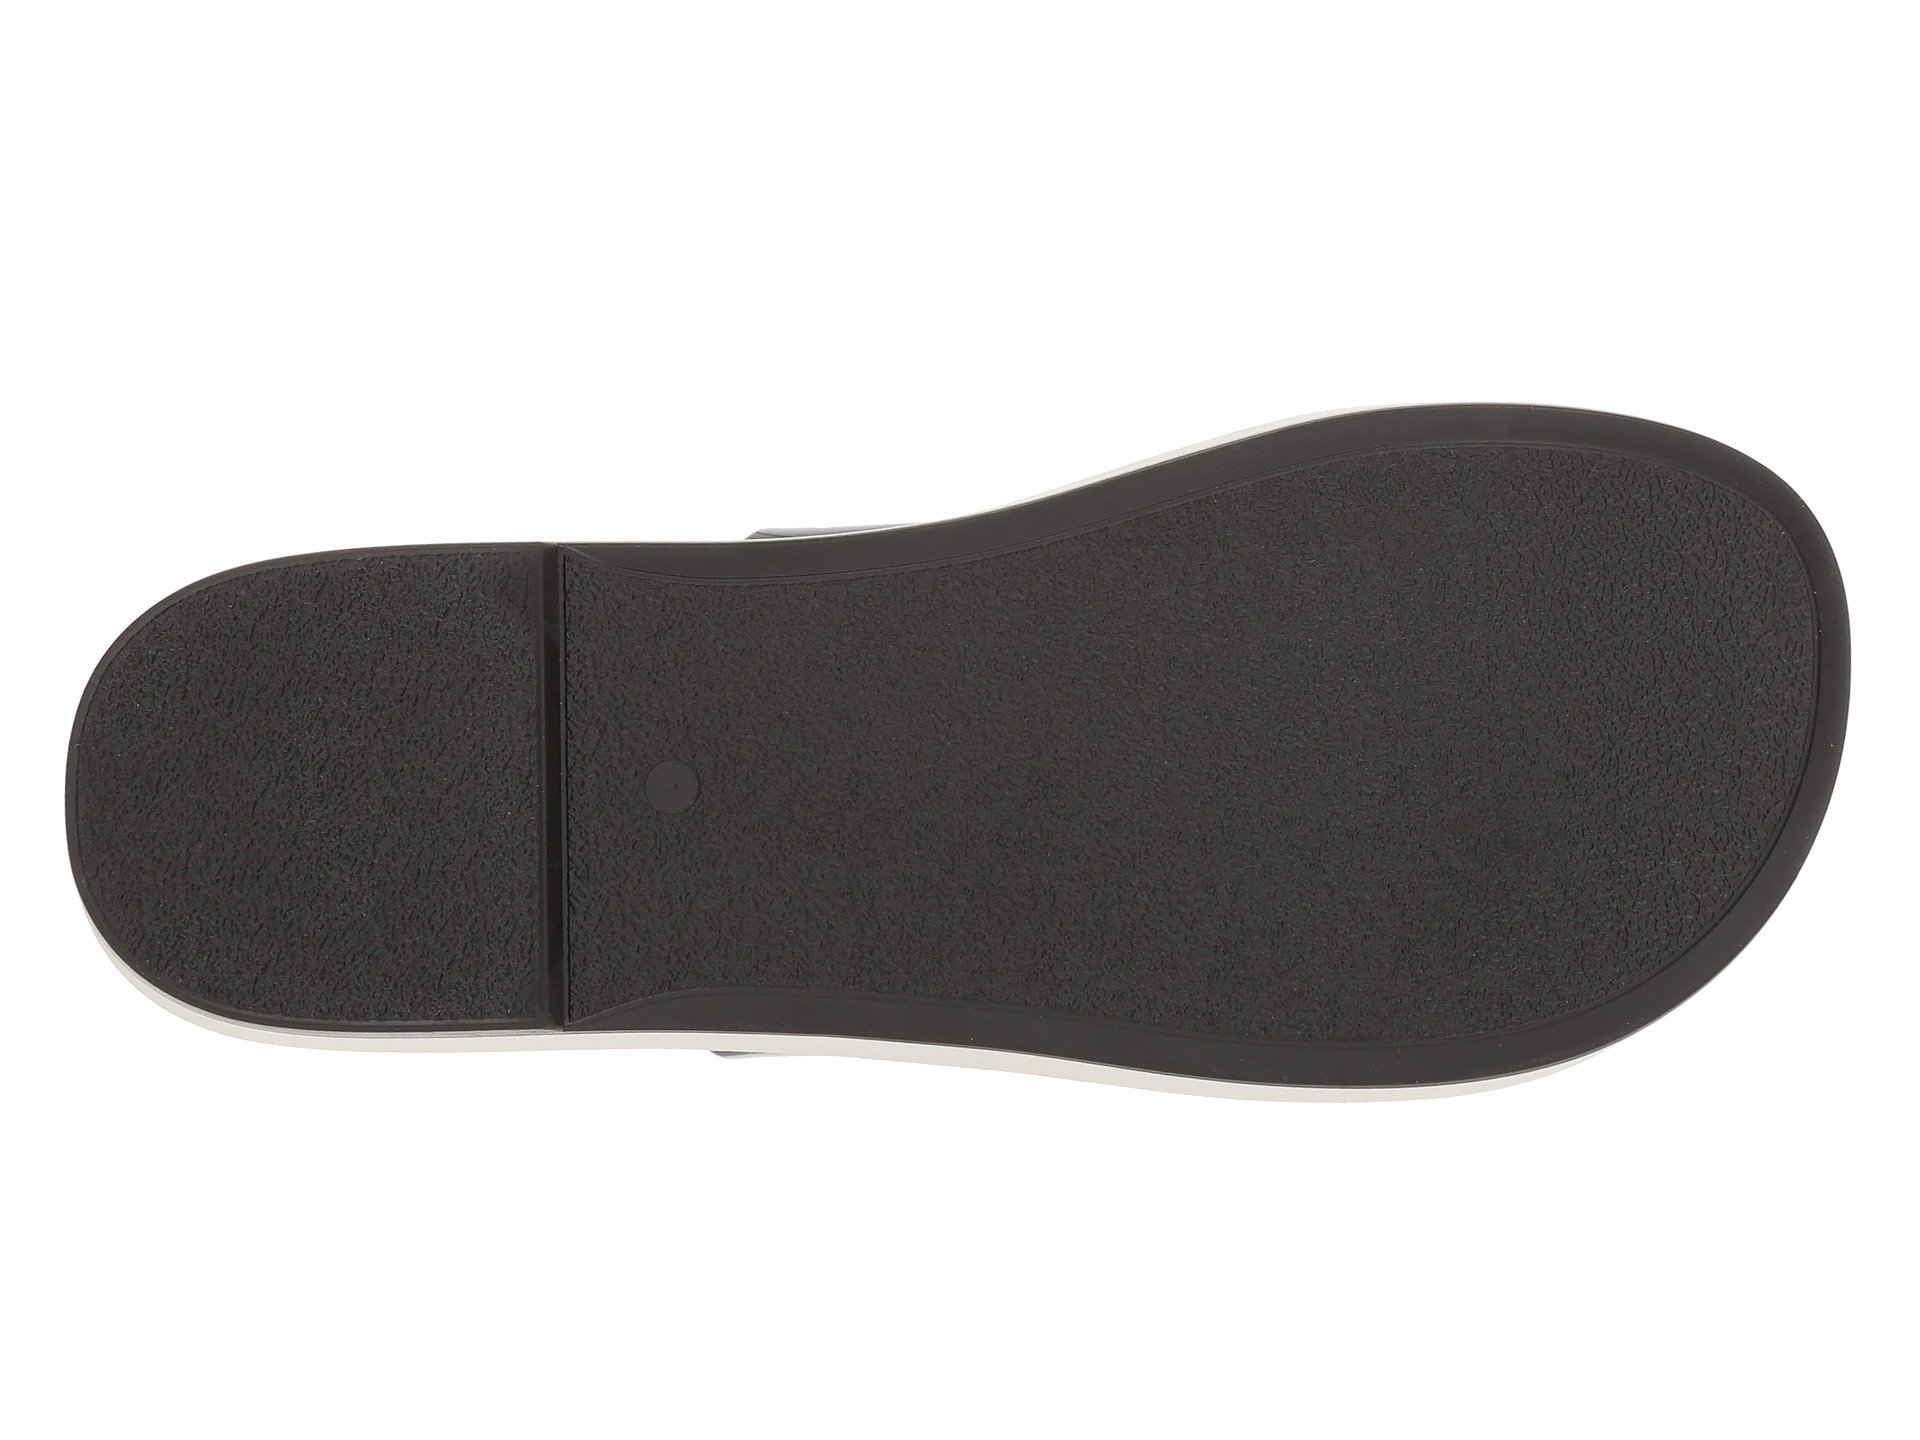circle: (609, 743, 748, 850)
